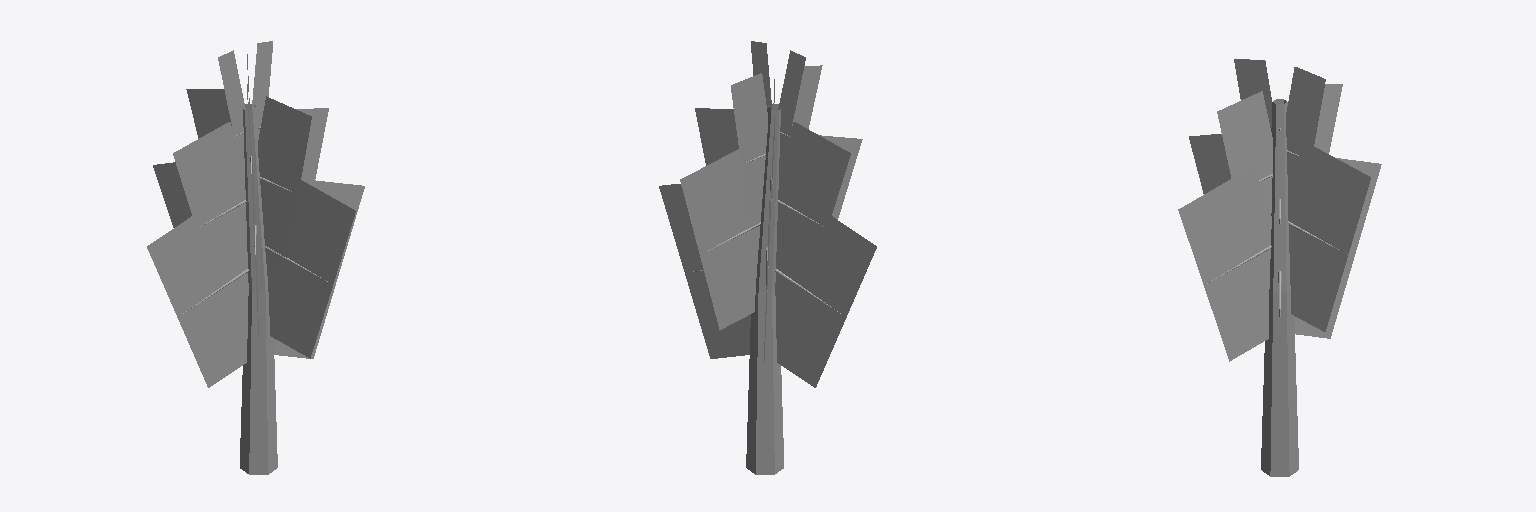
Rendered from great_pine_bb.obj.
The picture shows the model from 3 angles: view 1: azimuth 30°, elevation 25°; view 2: azimuth 150°, elevation 25°; view 3: azimuth 270°, elevation 25°; orthographic projection.
Visible parts, largest first — view 1: plant; view 2: plant; view 3: plant.
Part boxes in pixels (x1,y1,x2,y2): plant: (147,41,364,474); plant: (659,41,876,474); plant: (1178,59,1381,476).
Size of the model in its own units: 9.44 by 17.54 by 7.62.